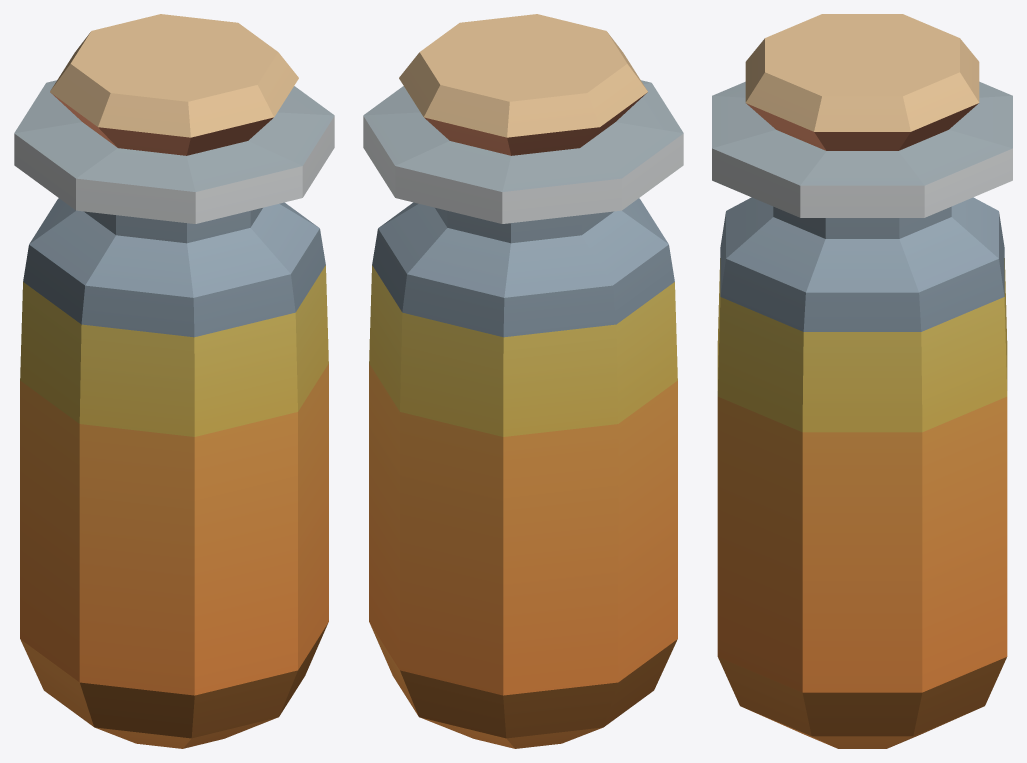
File: source.glb
3 views of the same model, side by side, from view 1: azimuth 30°, elevation 25°; view 2: azimuth 150°, elevation 25°; view 3: azimuth 270°, elevation 25° (orthographic).
Parts seen in each view (by area): view 1: model; view 2: model; view 3: model.
Boxes of the visible parts, x1,y1,x2,y2 form: model: (14,14,334,748); model: (363,14,683,748); model: (712,14,1012,748).
Size of the model in its own units: 0.22 by 0.54 by 0.22.
1 material, 1 textured.
